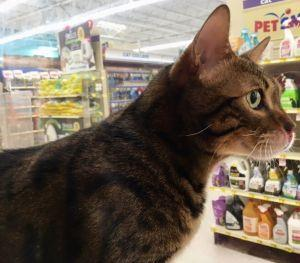bengal: (150, 1, 300, 186)
